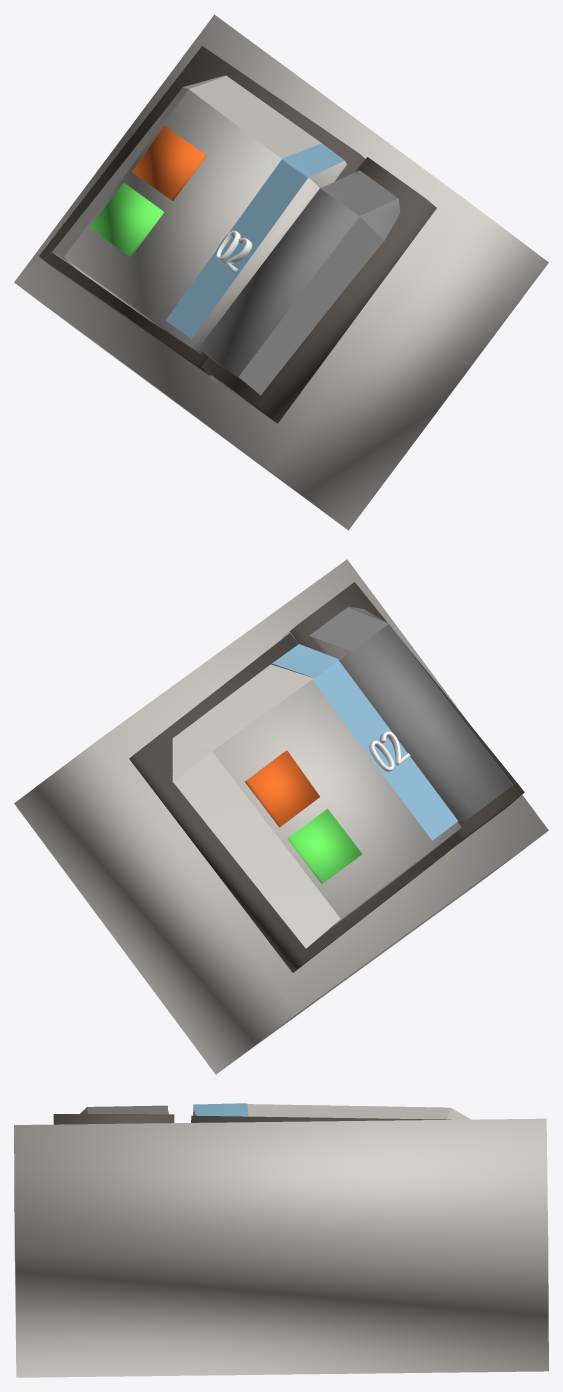
File: Keycard Padlock L2.fbx
The picture shows the model from 3 angles, top to bottom: view 1: azimuth 30°, elevation 25°; view 2: azimuth 150°, elevation 25°; view 3: azimuth 270°, elevation 25°; orthographic projection. The views are drawn at different scales.
Visible parts, largest first — view 1: 1b7b4d51-fa75-469d-a827-231e8b6c554b; view 2: 1b7b4d51-fa75-469d-a827-231e8b6c554b; view 3: 1b7b4d51-fa75-469d-a827-231e8b6c554b.
Part boxes in pixels (x1,y1,x2,y2): 1b7b4d51-fa75-469d-a827-231e8b6c554b: (14,14,548,530); 1b7b4d51-fa75-469d-a827-231e8b6c554b: (14,559,548,1074); 1b7b4d51-fa75-469d-a827-231e8b6c554b: (14,1103,548,1377).
Size of the model in its own units: 2432 by 2493 by 3784.
